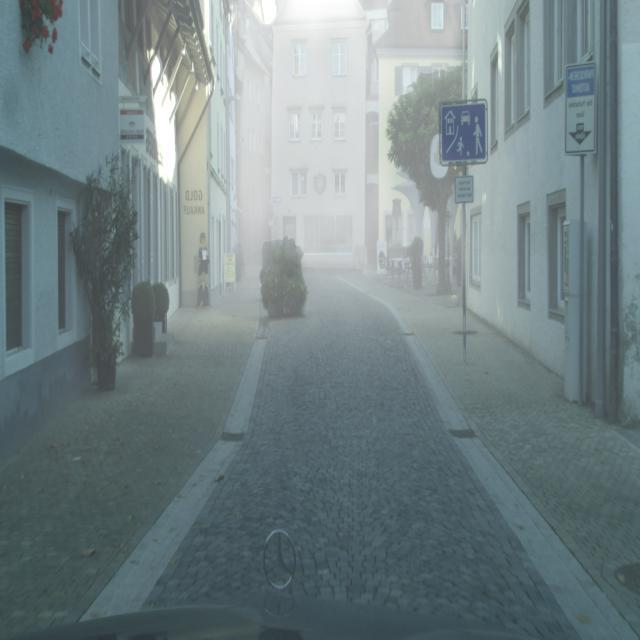bus: (196, 231, 210, 308)
